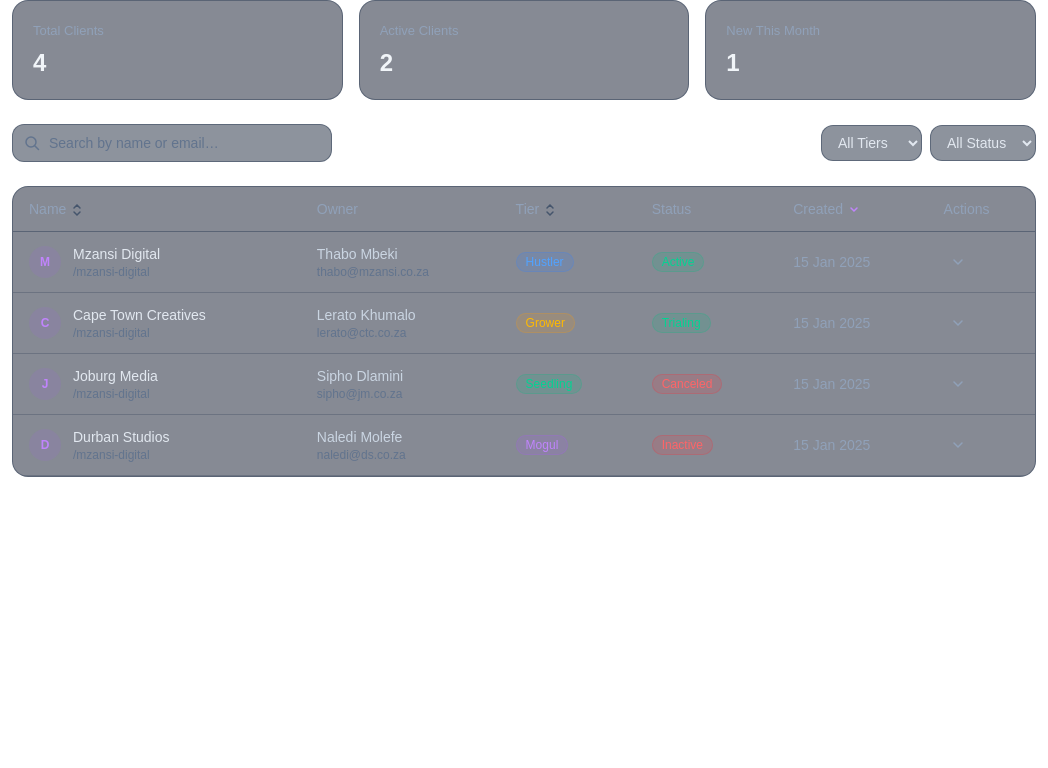
Test case: ClientsTable › expands row on click to show details
Click the row with test id "client-row-org-1": (524, 262) x1=13 y1=231 x2=1035 y2=292
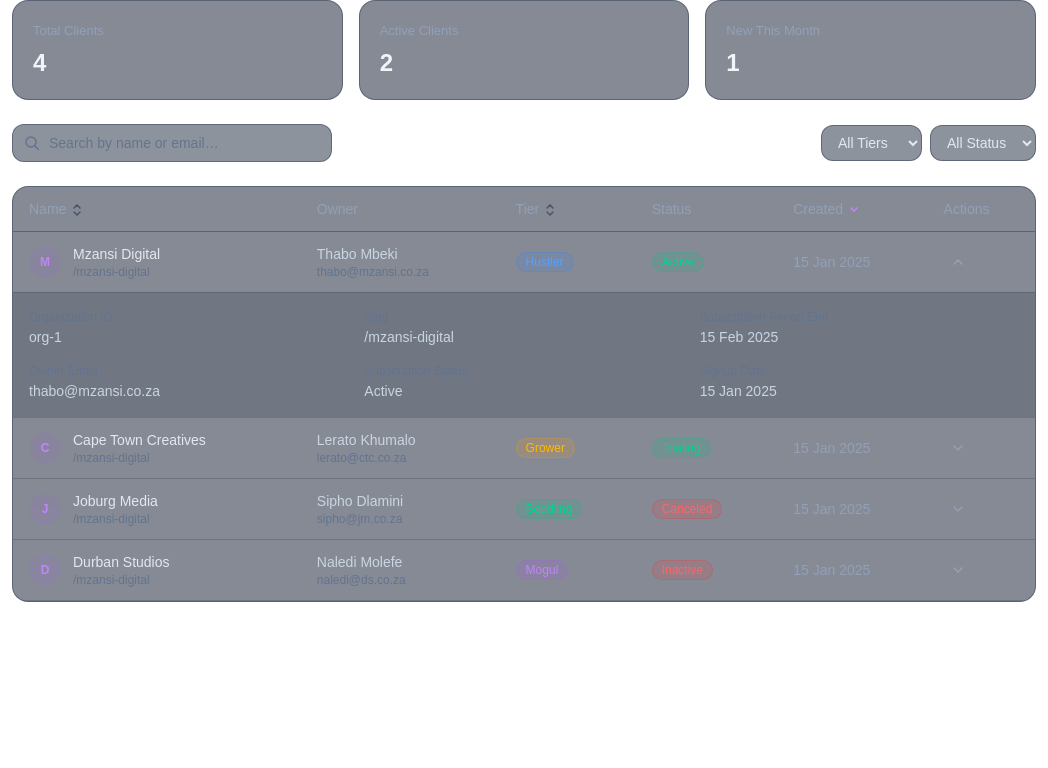
expect the row with test id "client-details-org-1" is shown: met, box x1=13 y1=292 x2=1035 y2=417
